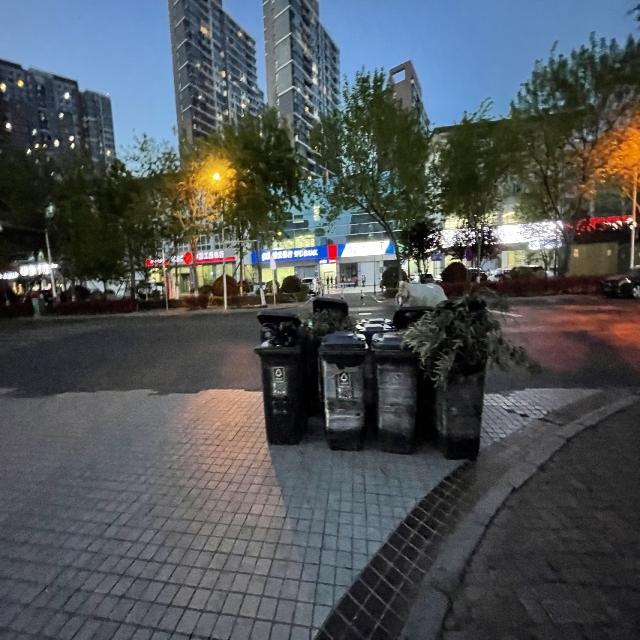garbage_bin: (370, 330, 420, 453), (318, 330, 367, 451)
overflow: (402, 292, 541, 460), (254, 312, 308, 443)
